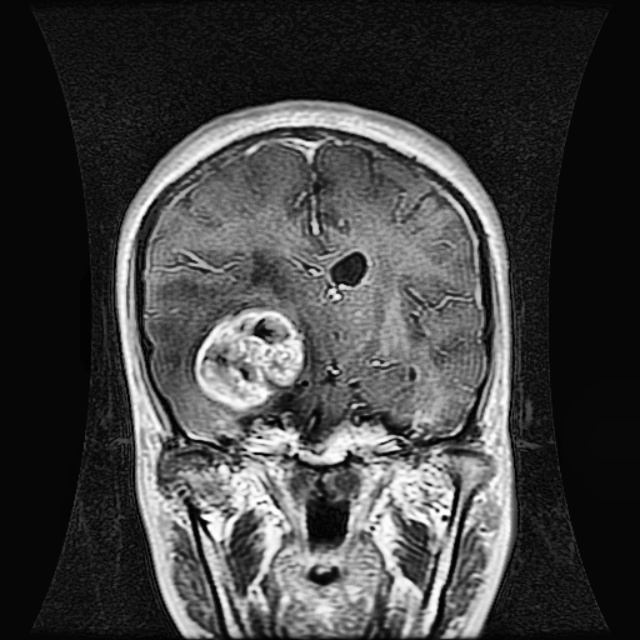Meningioma: (192, 305, 310, 412)
